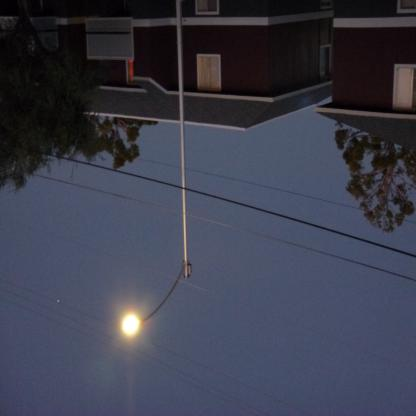Streetlights 1: (107, 1, 200, 342)
